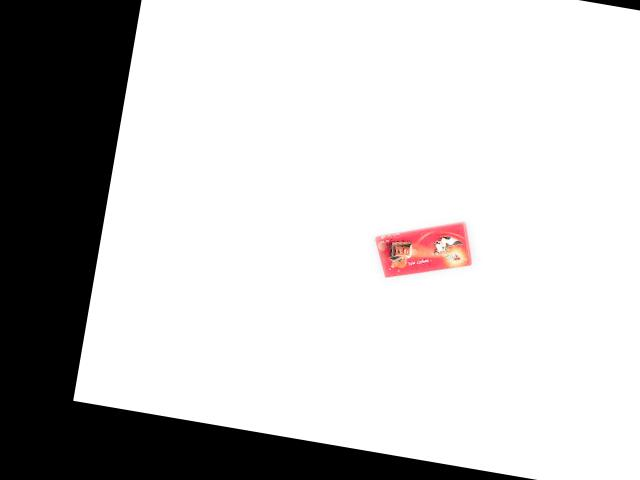chocolate: (367, 207, 476, 292)
